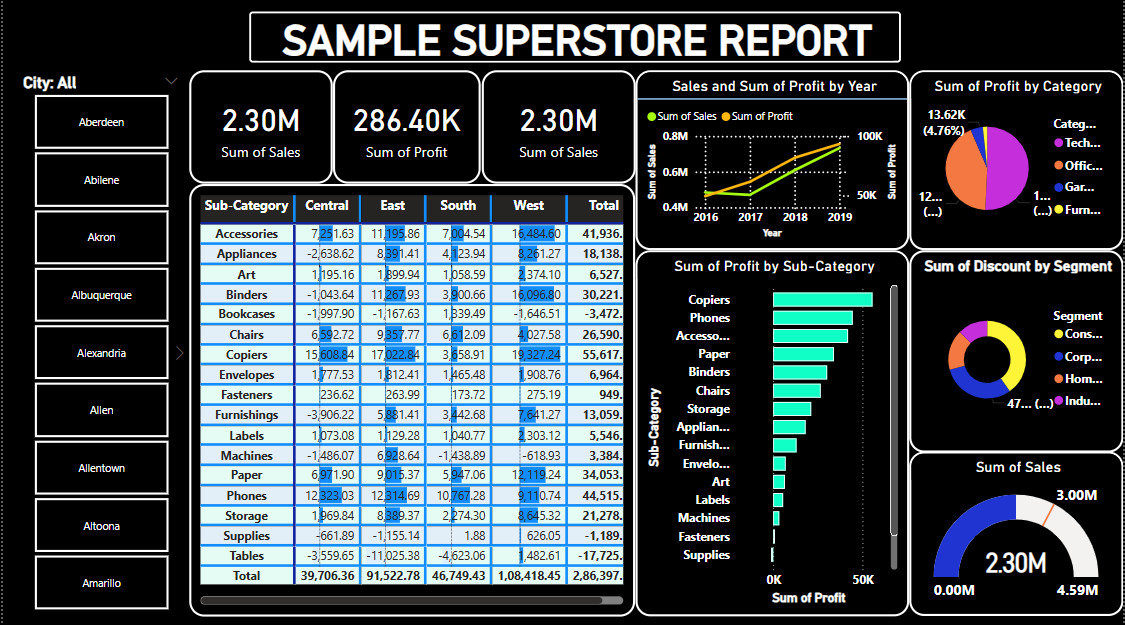

The page's visual inventory and layout, read from the dashboard file:
{"tool":"powerbi","page":{"name":"Page 1","canvas":[1280,720],"ordinal":0},"visuals":[{"type":"textbox","title":"SAMPLE SUPERSTORE REPORT","box":[281,14,745,58],"z":0},{"type":"slicer","fields":{"Values":["Orders.City"]},"box":[9.8,80.7,203,624.9],"z":1000},{"type":"card","fields":{"Values":["Sum(Orders.Sales)"]},"box":[212.8,81.9,163.9,129.6],"z":2000},{"type":"lineChart","title":"Sales and Sum of Profit by Year","fields":{"Category":["Orders.Order Date.Variation.Date Hierarchy.Year","Orders.Order Date.Variation.Date Hierarchy.Quarter","Orders.Order Date.Variation.Date Hierarchy.Month","Orders.Order Date.Variation.Date Hierarchy.Day"],"Y":["Sum(Orders.Sales)"],"Y2":["Sum(Orders.Profit)"]},"box":[722.7,81.9,313,205.4],"z":3000},{"type":"card","fields":{"Values":["Sum(Orders.Sales)"]},"box":[546.6,81.9,176.1,129.6],"z":4000},{"type":"card","fields":{"Values":["Sum(Orders.Profit)"]},"box":[376.6,81.9,168.8,129.6],"z":5000},{"type":"pieChart","fields":{"Category":["Orders.Category"],"Y":["Sum(Orders.Profit)"]},"box":[1035.7,81.9,244.6,205.4],"z":6000},{"type":"donutChart","fields":{"Category":["Orders.Segment"],"Y":["Sum(Orders.Discount)"]},"box":[1035.7,287.4,244.6,231.1],"z":7000},{"type":"gauge","fields":{"Y":["Sum(Orders.Sales)"]},"box":[1035.7,517.3,244.6,188.3],"z":8000},{"type":"clusteredBarChart","fields":{"Category":["Orders.Sub-Category"],"Y":["Sum(Orders.Profit)"]},"box":[723,287,313,418],"z":9000},{"type":"pivotTable","fields":{"Rows":["Orders.Sub-Category"],"Columns":["Orders.Region"],"Values":["Sum(Orders.Profit)"]},"box":[212.8,211.6,509.9,494],"z":10000}]}

Visuals, with their boxes in screenshot pixels (x1, y1, x2, y2), scaled from the page's 1280x720 canvas onto the 1125x625 screenshot:
"SAMPLE SUPERSTORE REPORT" textbox: (247, 12, 902, 62)
slicer - Orders.City: (9, 70, 187, 612)
card - Sum(Orders.Sales): (187, 71, 331, 184)
"Sales and Sum of Profit by Year" lineChart: (635, 71, 910, 249)
card - Sum(Orders.Sales): (480, 71, 635, 184)
card - Sum(Orders.Profit): (331, 71, 479, 184)
pieChart - Orders.Category x Sum(Orders.Profit): (910, 71, 1124, 249)
donutChart - Orders.Segment x Sum(Orders.Discount): (910, 249, 1124, 450)
gauge - Sum(Orders.Sales): (910, 449, 1124, 612)
clusteredBarChart - Orders.Sub-Category x Sum(Orders.Profit): (635, 249, 911, 612)
pivotTable - Orders.Sub-Category x Orders.Region: (187, 184, 635, 612)
